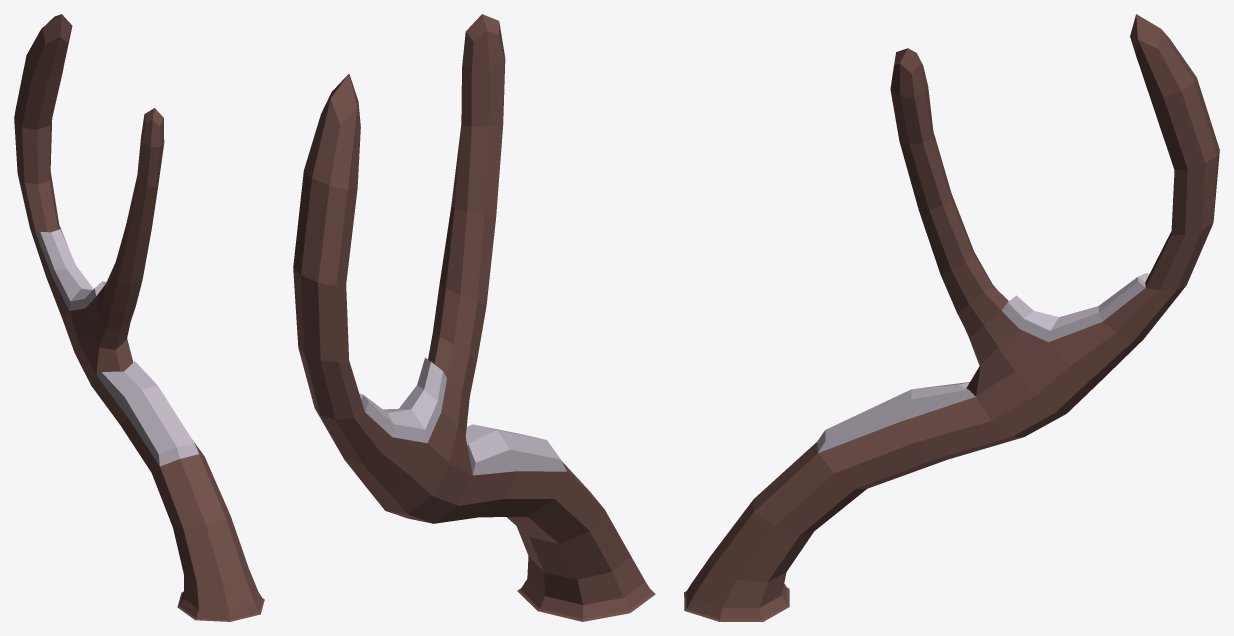
File: willow_dead_snow_3.glb
The picture shows the model from 3 angles, left to right: view 1: azimuth 30°, elevation 25°; view 2: azimuth 150°, elevation 25°; view 3: azimuth 270°, elevation 25°; orthographic projection. The views are drawn at different scales.
Parts seen in each view (by area): view 1: Willow_Dead_Snow_3; view 2: Willow_Dead_Snow_3; view 3: Willow_Dead_Snow_3.
Part boxes in pixels (x1,y1,x2,y2): Willow_Dead_Snow_3: (14, 14, 264, 621); Willow_Dead_Snow_3: (293, 14, 655, 621); Willow_Dead_Snow_3: (684, 14, 1219, 621).
Size of the model in its own units: 0.3109 by 1.91 by 1.58.
